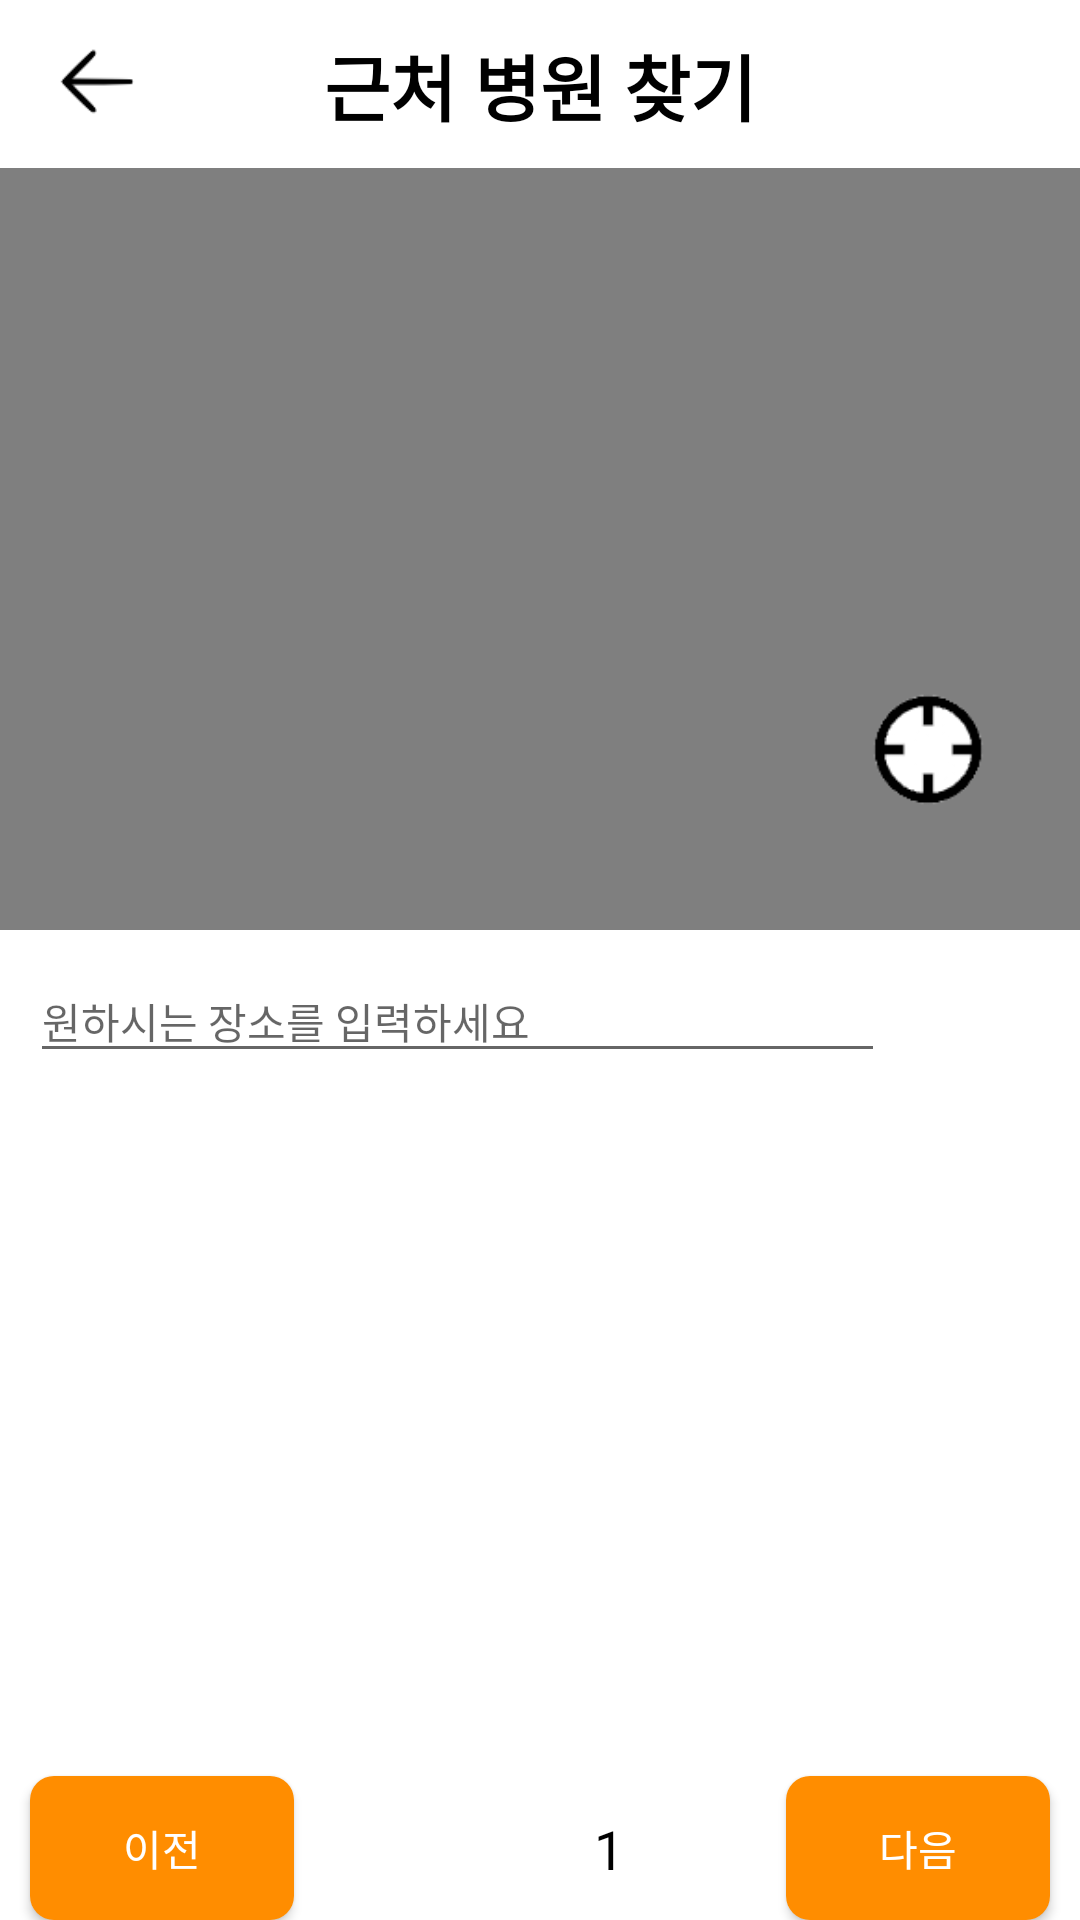

Point at icon controls on the screen. Image size 1080px x 1920px, points as (x=x, y=y).
location: (x=928, y=749)
place back: (x=97, y=81)
